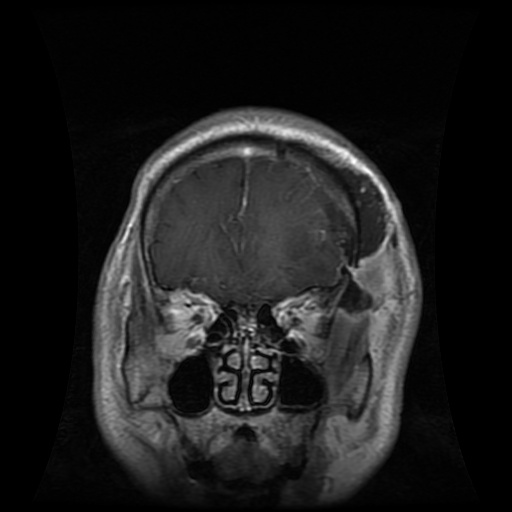glioma: (285, 194, 356, 288)
